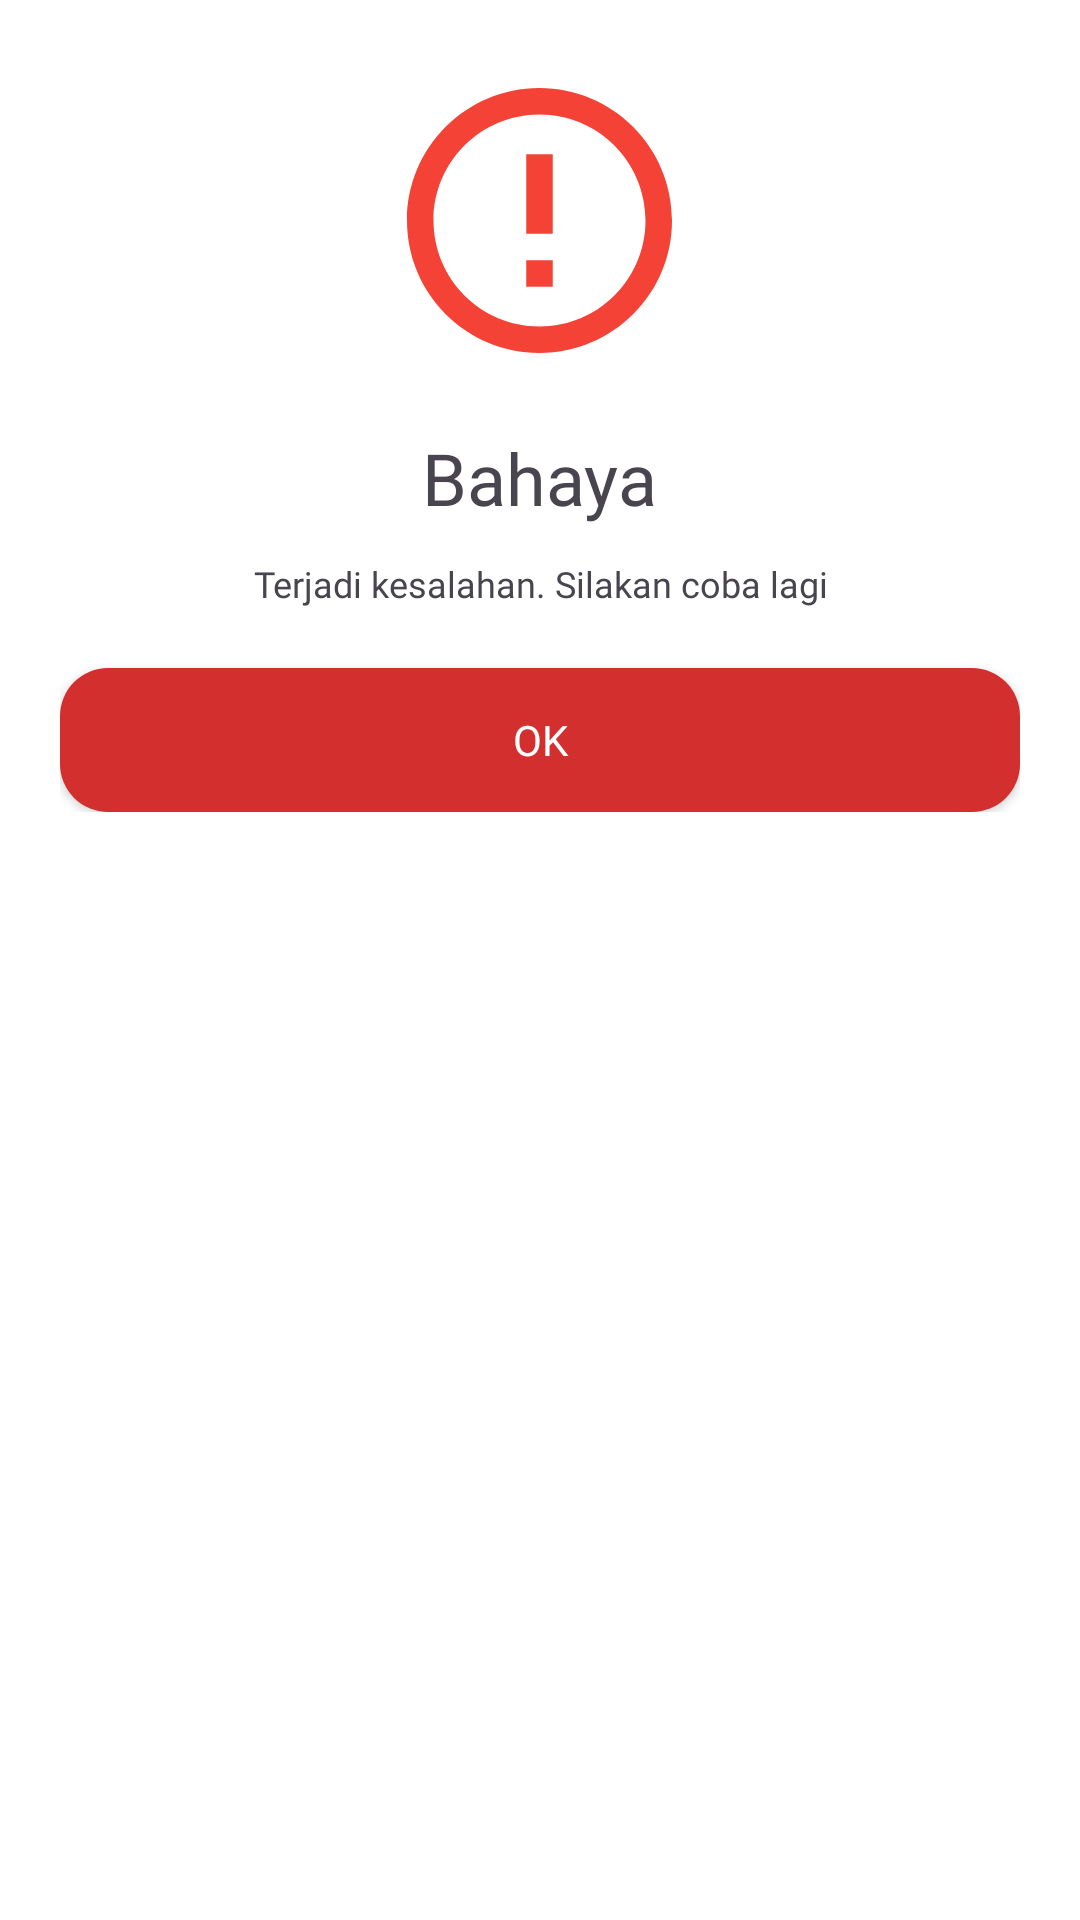

Named icons in this screenshot (1080 × 1920) and their bounding boxes, (x1, y1, x2, y2):
error: (407, 88, 672, 353)
